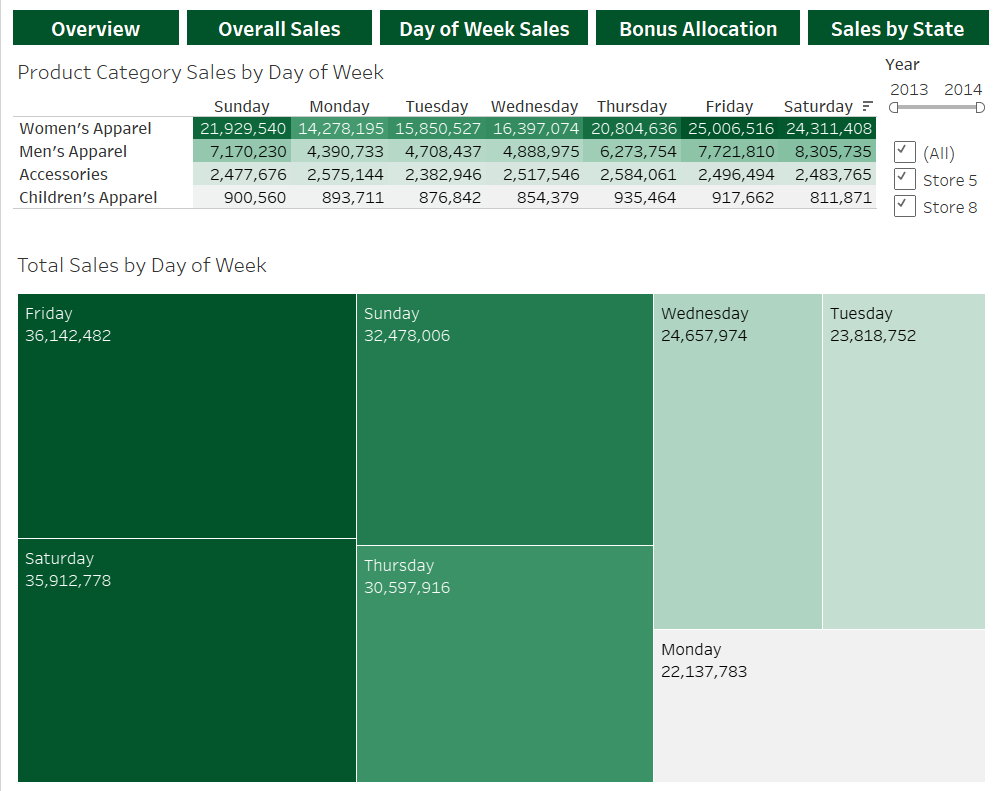

The page's visual inventory and layout, read from the dashboard file:
{"tool":"tableau","page":{"name":"Day of Week Sales","canvas":[1000,800],"ordinal":1},"visuals":[{"type":"dashboard-object","box":[8,8,173.9,43]},{"type":"dashboard-object","box":[181.9,8,193,43]},{"type":"dashboard-object","box":[375,8,216,43]},{"type":"dashboard-object","box":[591,8,212,43]},{"type":"dashboard-object","box":[803,8,189.1,43]},{"type":"worksheet","title":"Sheet 1","mark":"Square","rows":["PRODUCTCATEGORY"],"cols":["DAY_NAME"],"box":[8,51,872,193]},{"type":"filter","title":"Sheet 1","param":"[federated.1ld0mg40jkbz5j1c2tbfz1tygjmd].[none:YEAR:qk]","box":[880,51,112,83]},{"type":"filter","title":"Sheet 1","param":"[federated.1ld0mg40jkbz5j1c2tbfz1tygjmd].[none:STORENAME:nk]","box":[880,134,112,110]},{"type":"worksheet","title":"Sheet 2","mark":"Automatic","box":[8,244,984,548]}]}

Visuals, with their boxes in screenshot pixels (x1, y1, x2, y2), scaled from the page's 1000x800 canvas onto the 996x791 screenshot:
dashboard-object: region(8, 8, 181, 50)
dashboard-object: region(181, 8, 373, 50)
dashboard-object: region(374, 8, 589, 50)
dashboard-object: region(589, 8, 800, 50)
dashboard-object: region(800, 8, 988, 50)
"Sheet 1" worksheet (Square marks): region(8, 50, 876, 241)
"Sheet 1" filter: region(876, 50, 988, 132)
"Sheet 1" filter: region(876, 132, 988, 241)
"Sheet 2" worksheet: region(8, 241, 988, 783)
